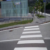zebra: (14, 25, 47, 50)
